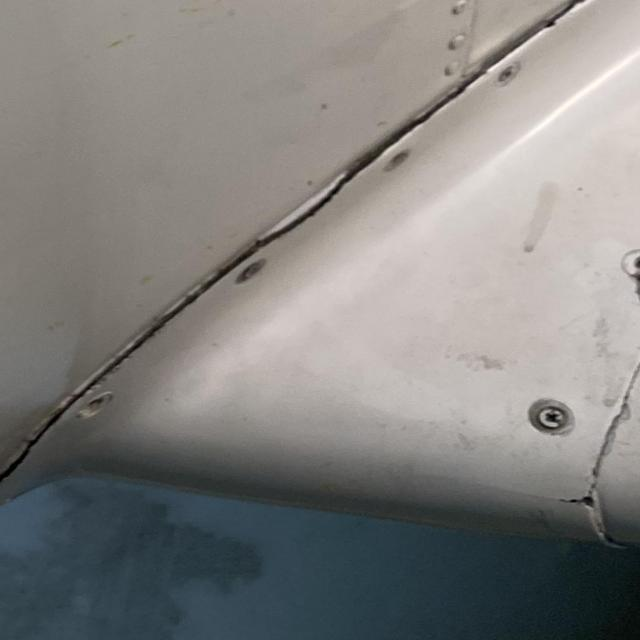Crack: (245, 161, 392, 261), (0, 372, 83, 530), (536, 482, 626, 518)
Missing_Fastener: (76, 389, 121, 421), (381, 150, 418, 173)
